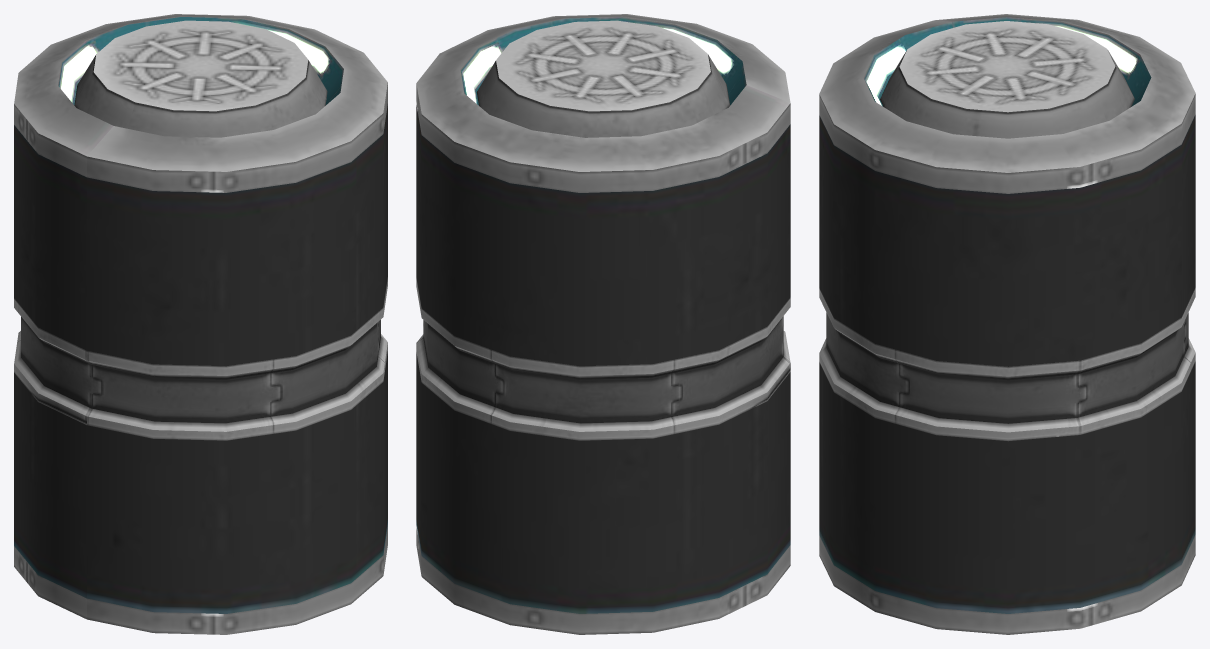
Rendered from ARC1110006.fbx.
3 views of the same model, side by side, from view 1: azimuth 30°, elevation 25°; view 2: azimuth 150°, elevation 25°; view 3: azimuth 270°, elevation 25° (orthographic).
Visible parts, largest first — view 1: smARC1110006; view 2: smARC1110006; view 3: smARC1110006.
Boxes of the visible parts, x1,y1,x2,y2 form: smARC1110006: (14,14,387,634); smARC1110006: (416,14,790,634); smARC1110006: (819,14,1195,634).
Bounding box in the file's own units: 78.17 × 118 × 78.17.
Materials: 1 (1 with a texture image).
